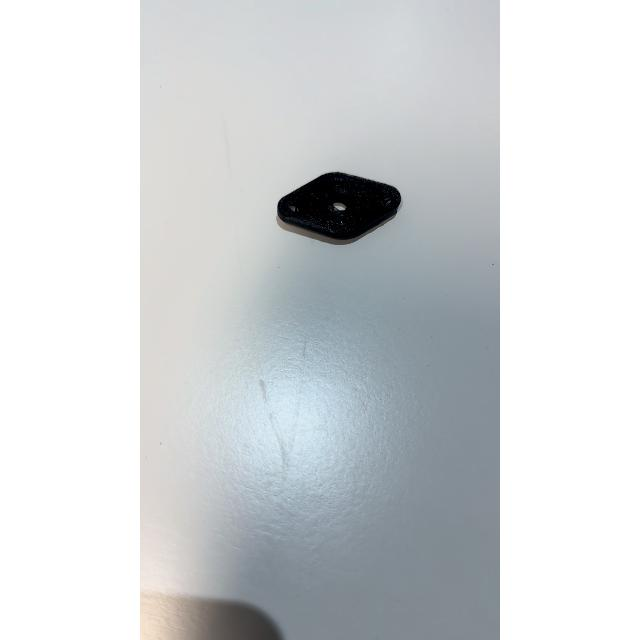Pieza_2: (254, 158, 420, 244)
